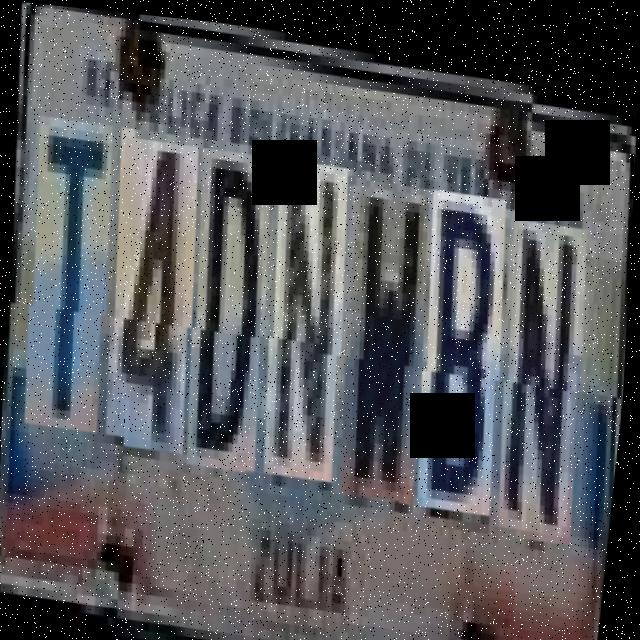4: (92, 132, 214, 452)
B: (404, 179, 522, 508)
D: (173, 142, 287, 470)
N: (485, 198, 603, 527), (250, 151, 364, 480)
T: (10, 122, 128, 442)
W: (327, 170, 445, 498)
